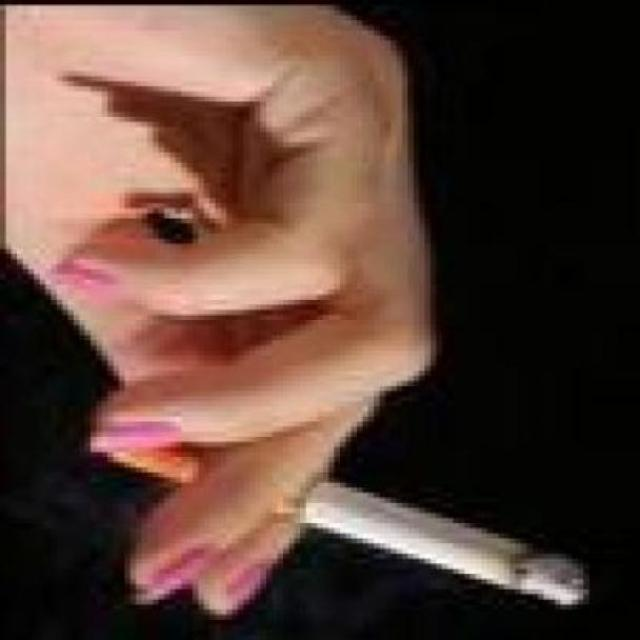rokok: (101, 410, 594, 614)
